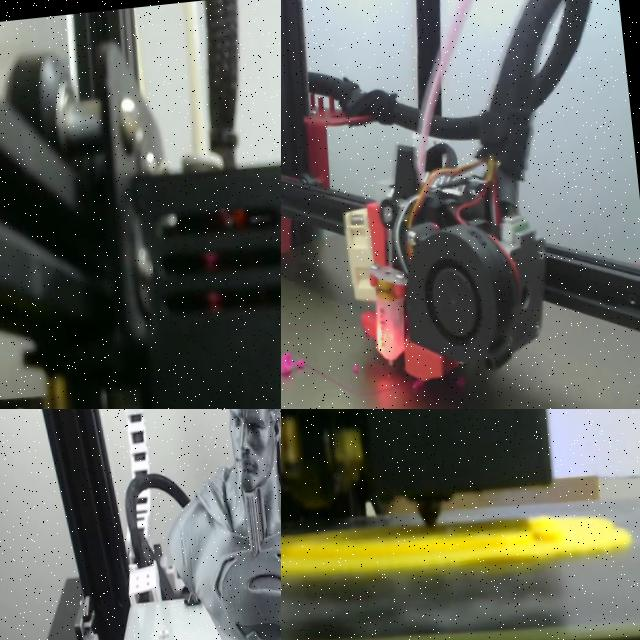spaghetti: (281, 352, 398, 397), (455, 375, 465, 390), (412, 379, 424, 389), (352, 364, 358, 374)
